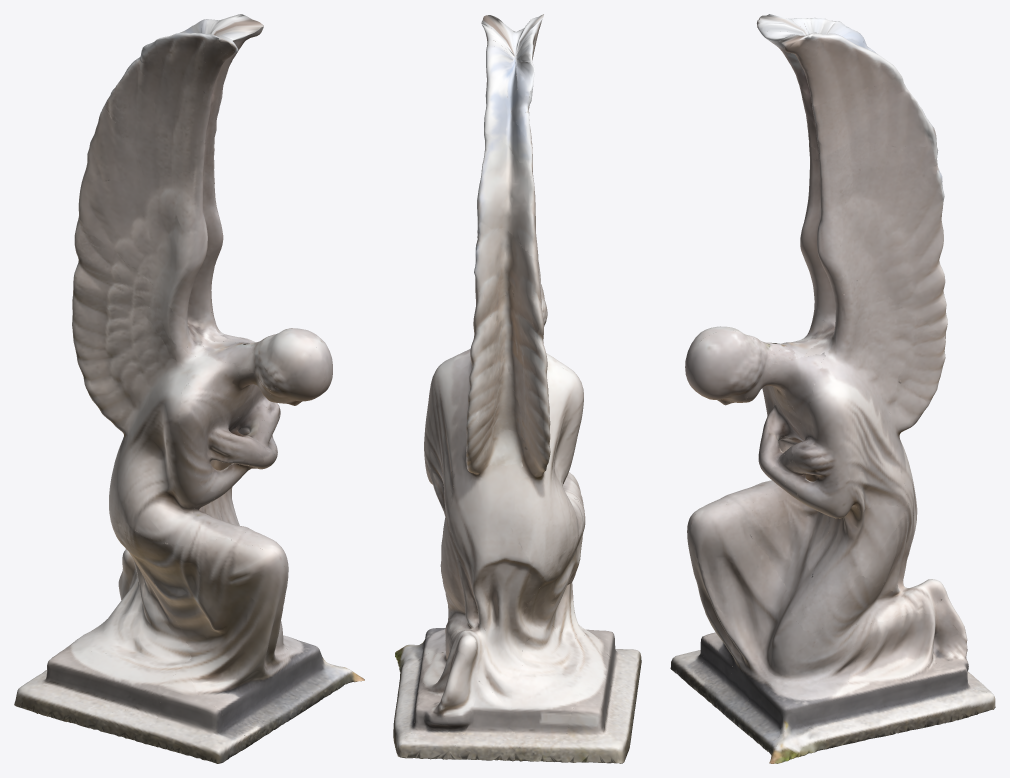
3 renders of one model, left to right at view 1: azimuth 30°, elevation 25°; view 2: azimuth 150°, elevation 25°; view 3: azimuth 270°, elevation 25°, orthographic.
Visible parts, largest first — view 1: 512.25k; view 2: 512.25k; view 3: 512.25k.
Boxes of the visible parts, box(x1,y1,x2,y2) form: 512.25k: box(14, 14, 364, 763); 512.25k: box(393, 14, 641, 763); 512.25k: box(670, 14, 995, 763).
Size of the model in its own units: 2.35 by 5.25 by 2.28.
1 material, 1 textured.
